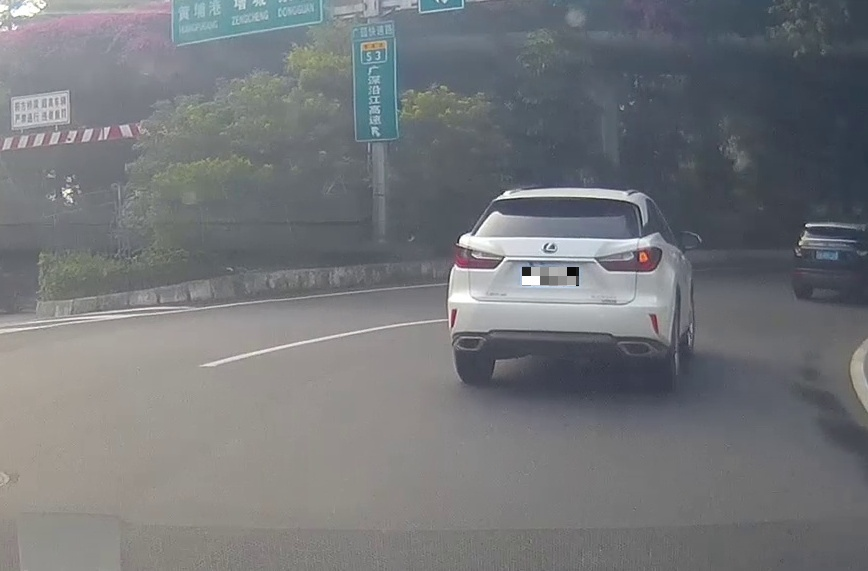L_light: (454, 245, 505, 270)
R_light: (594, 245, 663, 272)
T_light: (543, 198, 570, 204)
day-right: (447, 188, 663, 390)
plate_1: (522, 267, 579, 286)
